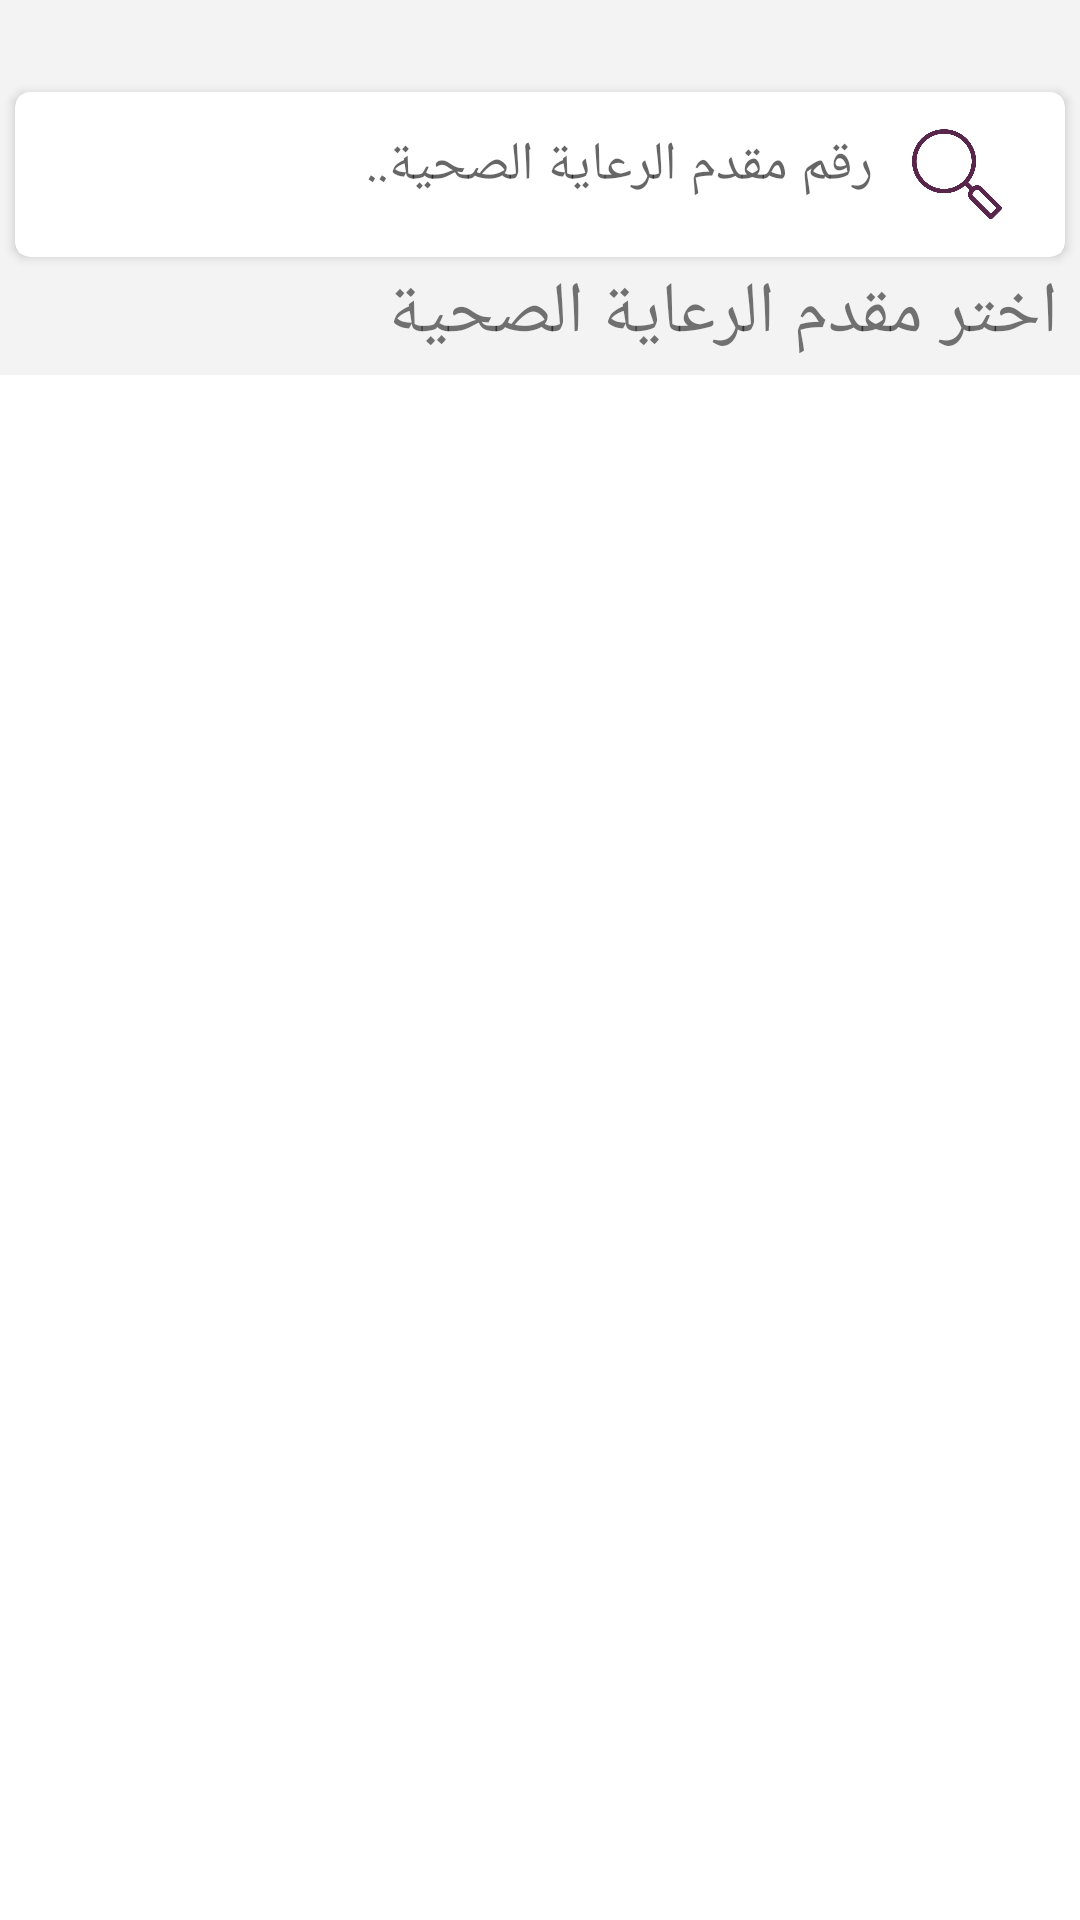

Named icons in this screenshot (1080×1920) and their bounding boxes, (x1, y1, x2, y2):
search: (912, 129, 1002, 219)
